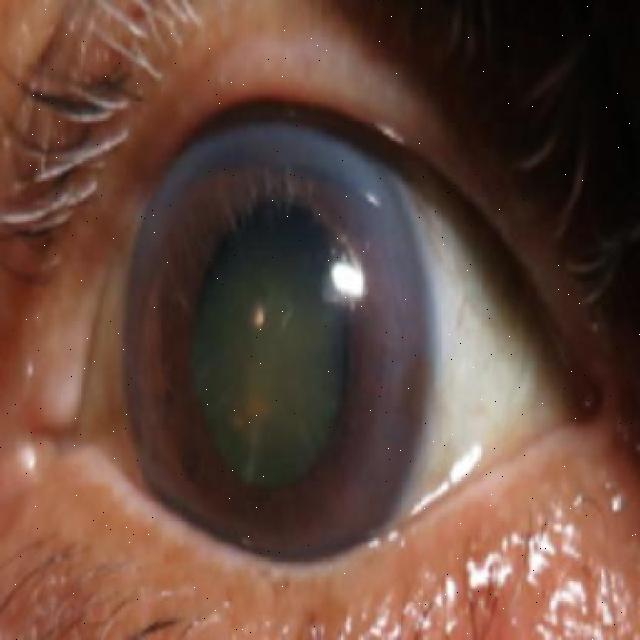Cataract: (120, 116, 436, 574)
